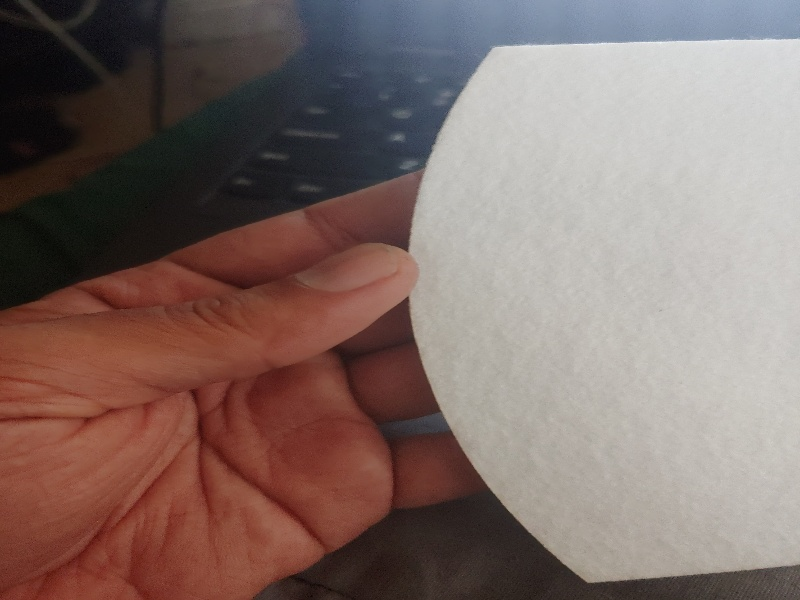Filter: (406, 38, 800, 582)
